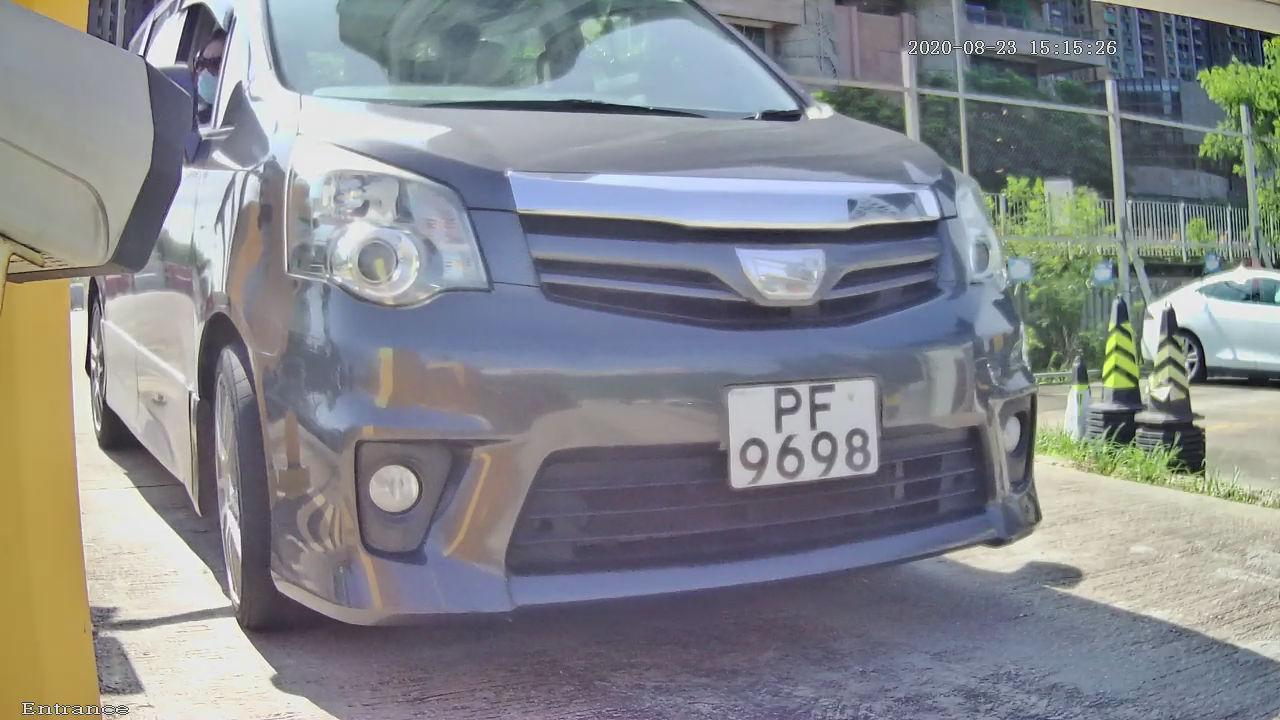Car: (52, 1, 1092, 701)
License Plate: (709, 357, 886, 505)
